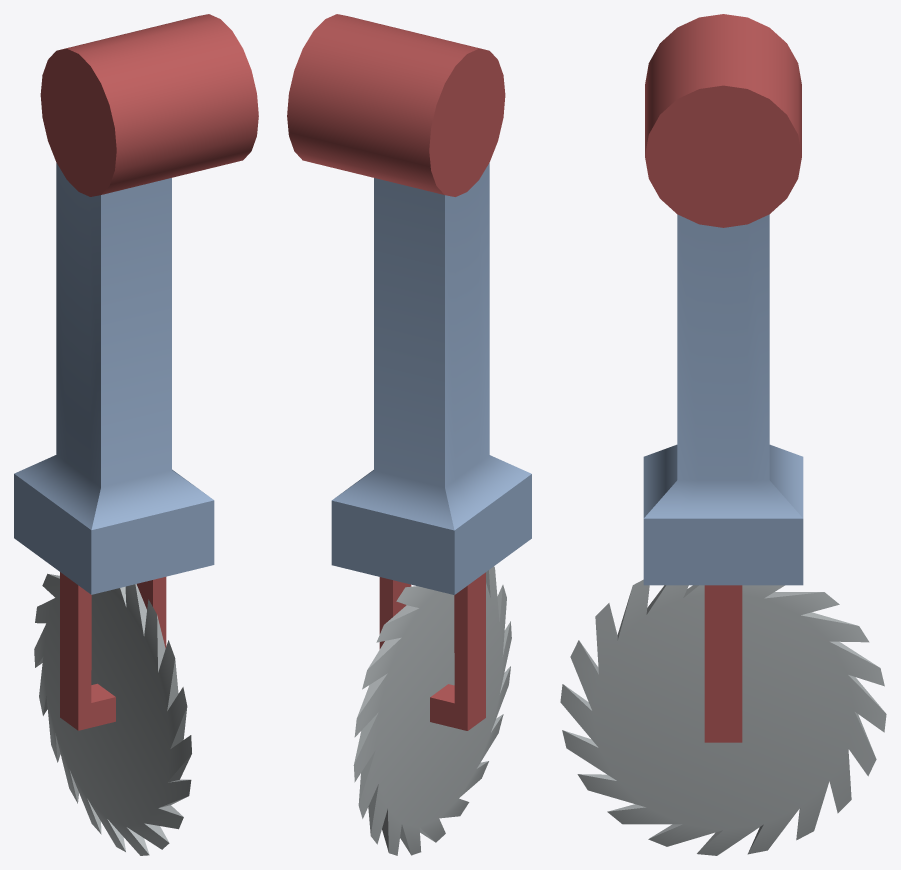
The model's file is Robot_Arm_v7_RiggedRight.fbx.
The picture shows the model from 3 angles, left to right: view 1: azimuth 30°, elevation 25°; view 2: azimuth 150°, elevation 25°; view 3: azimuth 270°, elevation 25°; orthographic projection. The views are drawn at different scales.
Visible parts, largest first — view 1: Arm, Blade; view 2: Arm, Blade; view 3: Arm, Blade.
Boxes of the visible parts, x1,y1,x2,y2 form: Arm: (14, 14, 258, 730); Blade: (34, 573, 191, 855); Arm: (287, 14, 531, 730); Blade: (353, 566, 511, 855); Arm: (643, 14, 803, 742); Blade: (560, 579, 886, 855).
Bounding box in the file's own units: 112 × 509 × 183.
